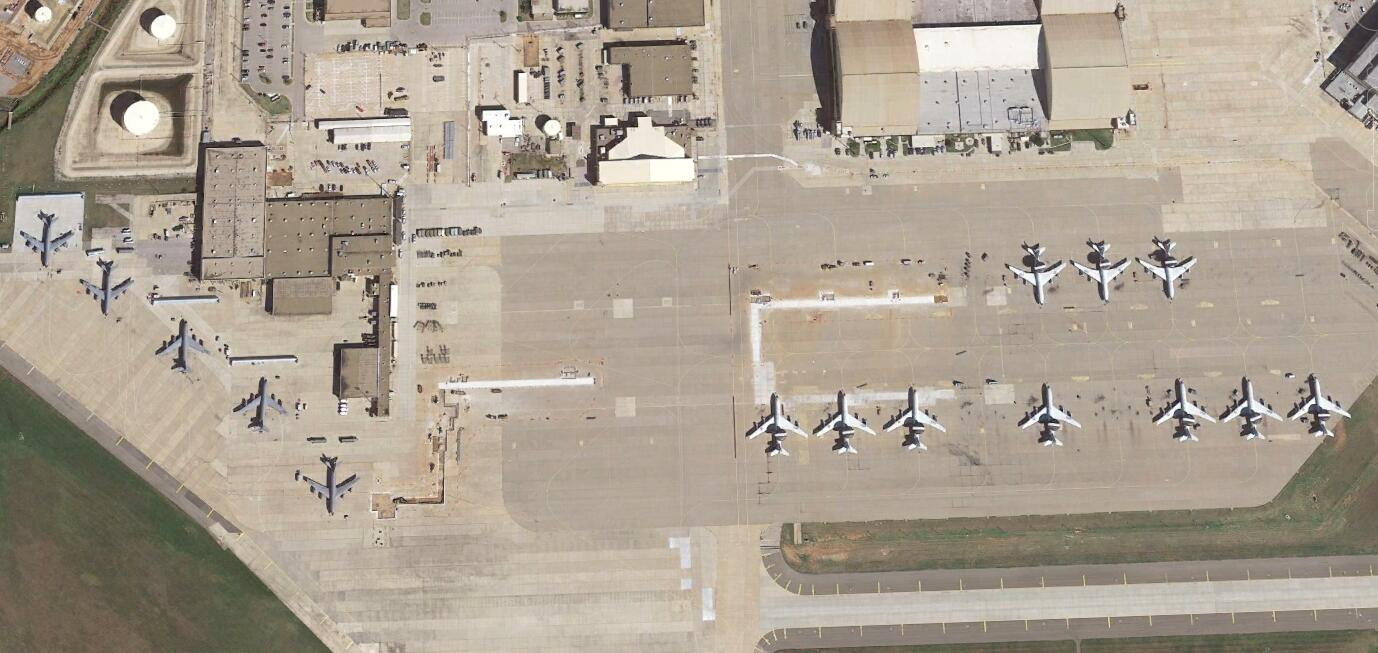A14: (301, 454, 363, 516), (76, 257, 134, 315), (20, 212, 79, 268), (231, 377, 291, 431), (156, 318, 213, 371)
A7: (1287, 374, 1353, 441), (1019, 381, 1081, 450), (744, 391, 806, 457), (884, 387, 945, 454), (813, 390, 876, 454), (1222, 375, 1282, 441), (1070, 238, 1132, 300), (1154, 379, 1213, 444), (1137, 238, 1198, 299), (1007, 244, 1065, 304)
